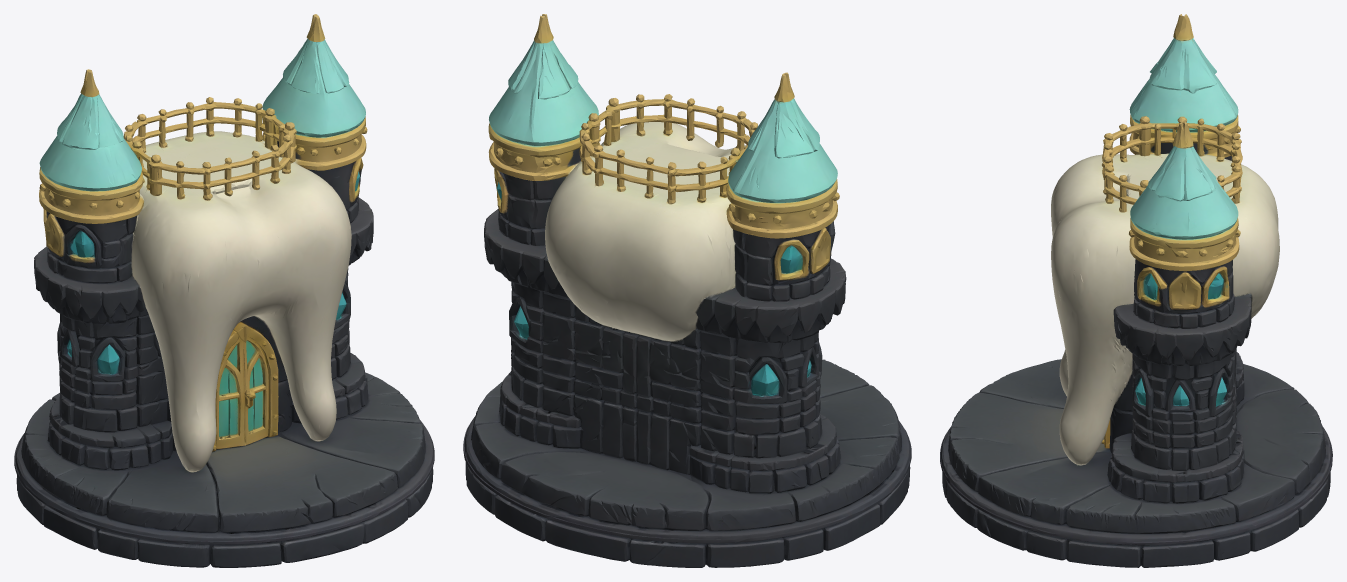
File: tooth-citadel.glb
3 views of the same model, side by side, from view 1: azimuth 30°, elevation 25°; view 2: azimuth 150°, elevation 25°; view 3: azimuth 270°, elevation 25° (orthographic). The views are drawn at different scales.
Visible parts, largest first — view 1: model; view 2: model; view 3: model.
Part boxes in pixels (box(x1,y1,x2,y2)): model: box(14, 14, 434, 567); model: box(463, 14, 911, 567); model: box(940, 14, 1332, 567).
Size of the model in its own units: 1.72 by 1.9 by 1.64.
Materials: 1 (1 with a texture image).
